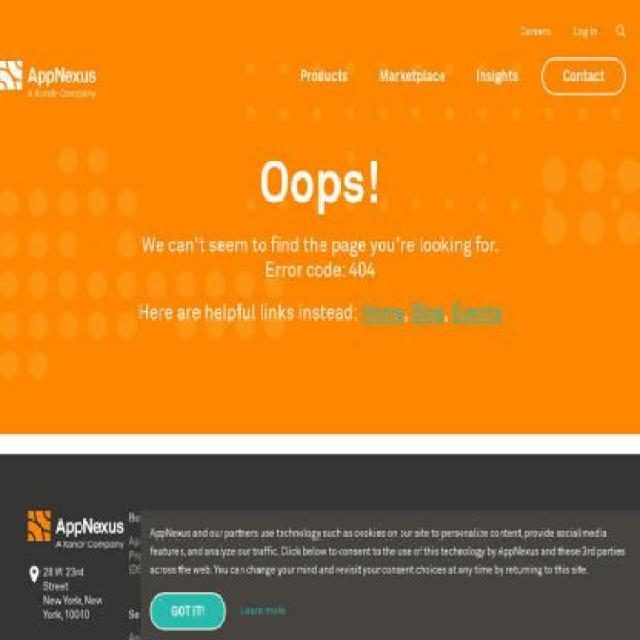button: (378, 37, 444, 111), (127, 534, 230, 578), (300, 37, 348, 111), (542, 57, 626, 95), (476, 37, 518, 111), (0, 60, 95, 91), (328, 592, 412, 622), (430, 554, 512, 583), (328, 536, 412, 550), (328, 554, 412, 568), (328, 574, 412, 588), (430, 536, 512, 550), (430, 588, 512, 602), (430, 607, 512, 621), (430, 626, 512, 640), (530, 536, 612, 550), (530, 554, 612, 568), (530, 574, 612, 588), (530, 592, 612, 606), (530, 612, 612, 626), (249, 536, 311, 550), (249, 554, 311, 568), (128, 632, 232, 639), (530, 632, 613, 639), (519, 25, 552, 38), (573, 25, 598, 38), (616, 25, 626, 38)
